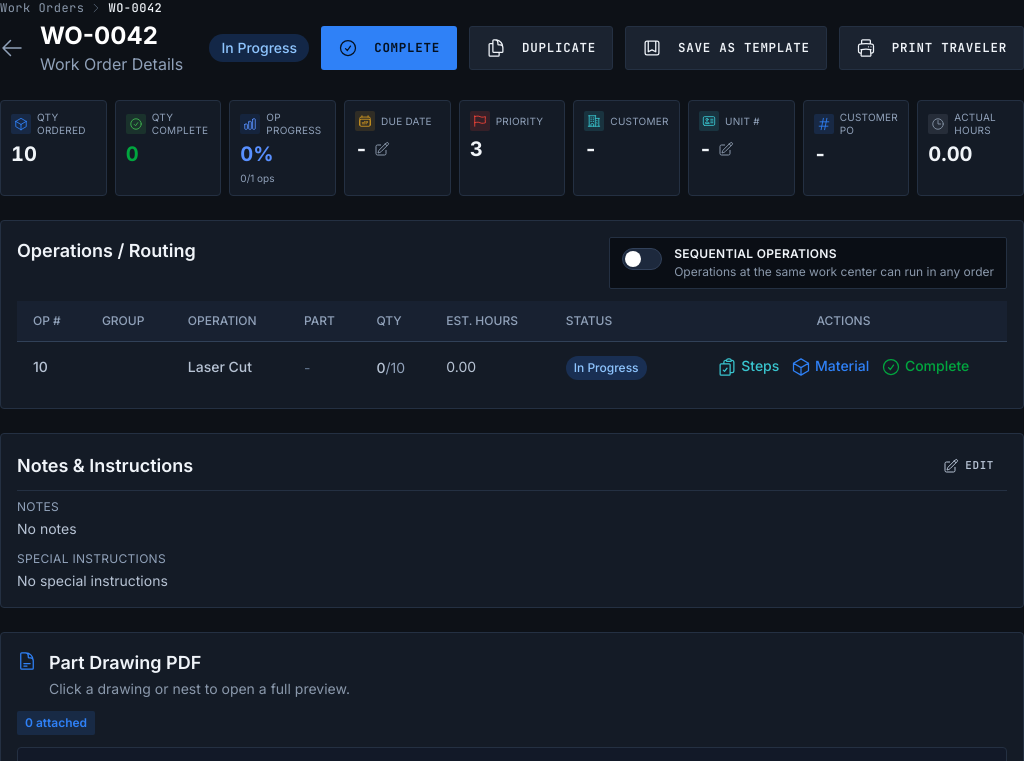
Test case: WorkOrderDetail per-operation Material action — role gate › opens the operation-scoped tie dialog when an allowed role clicks it
The image size is (1024, 761).
Expected: the text "Laser Cut" is shown, [188,358,252,374]
Click the button titled "Tie stock material to this operation" at (830, 366), box [791,356,869,377]
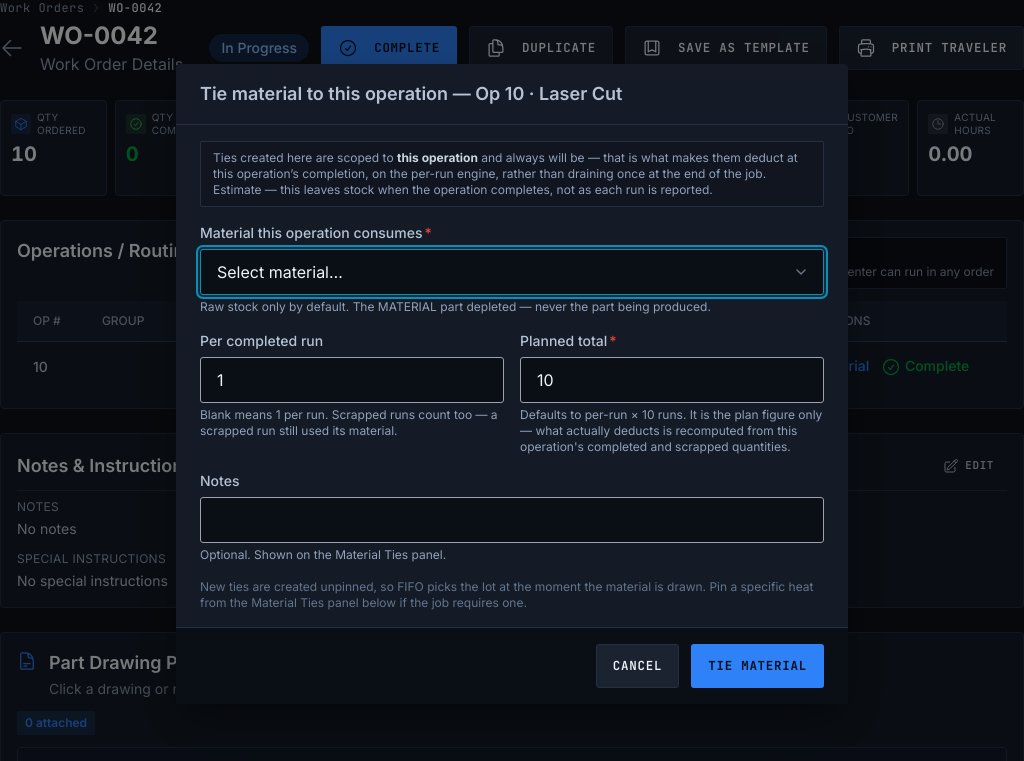
Expected: the dialog shows "Tie material to this operation", [200,83,448,104]
Expected: the dialog shows "Op 10", [475,83,622,104]
